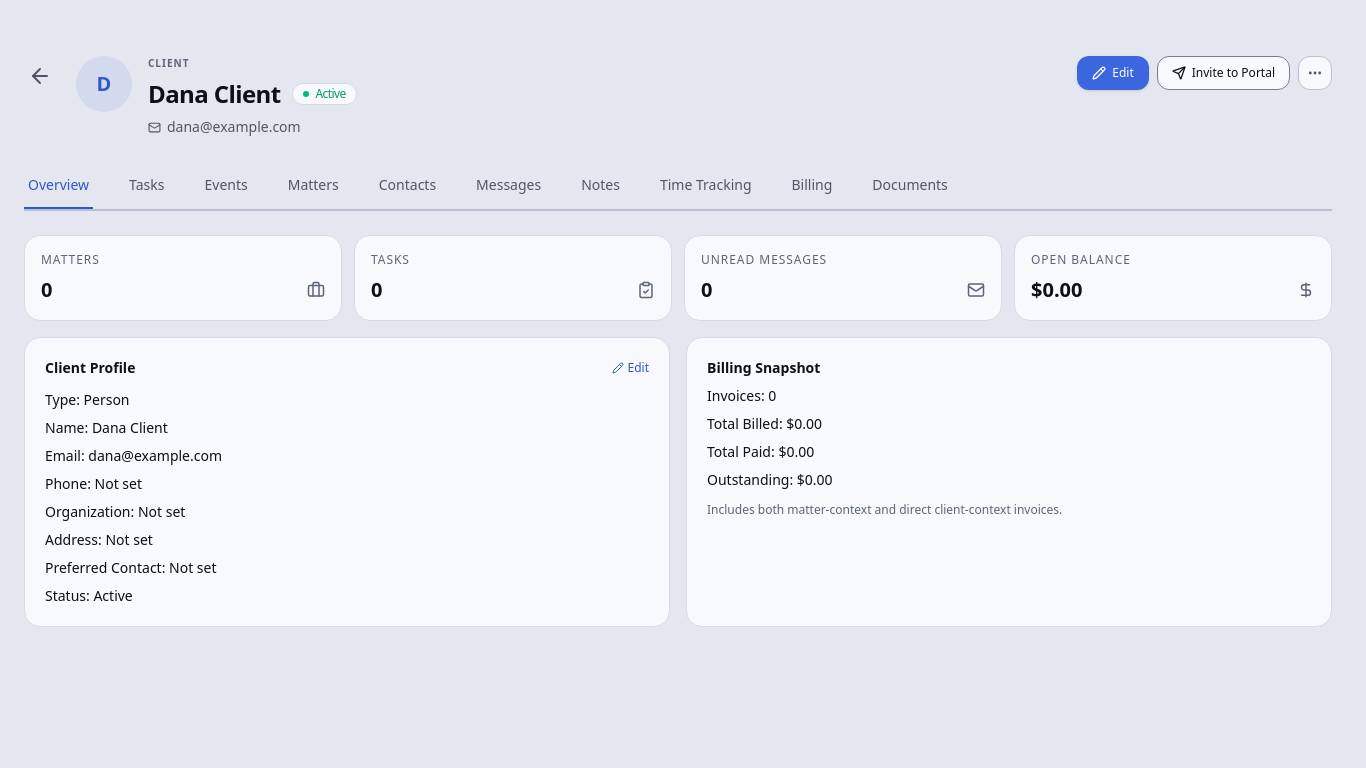
deleting from the card menu › tells the firm when the delete is refused
Click the button "Billing" at (812, 186), box [788, 163, 836, 209]
(page scrolled)
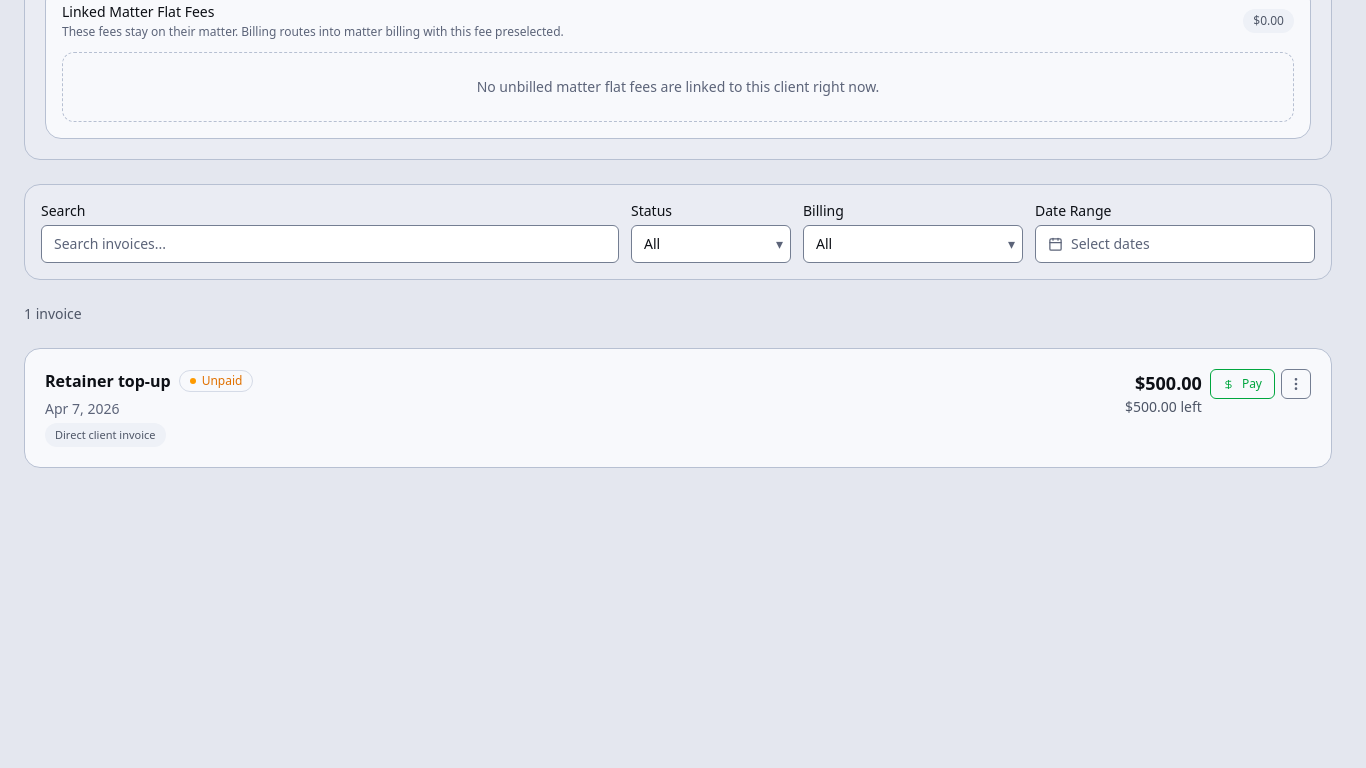
Click the button named "Invoice actions" at (1296, 384), box [1281, 369, 1311, 399]
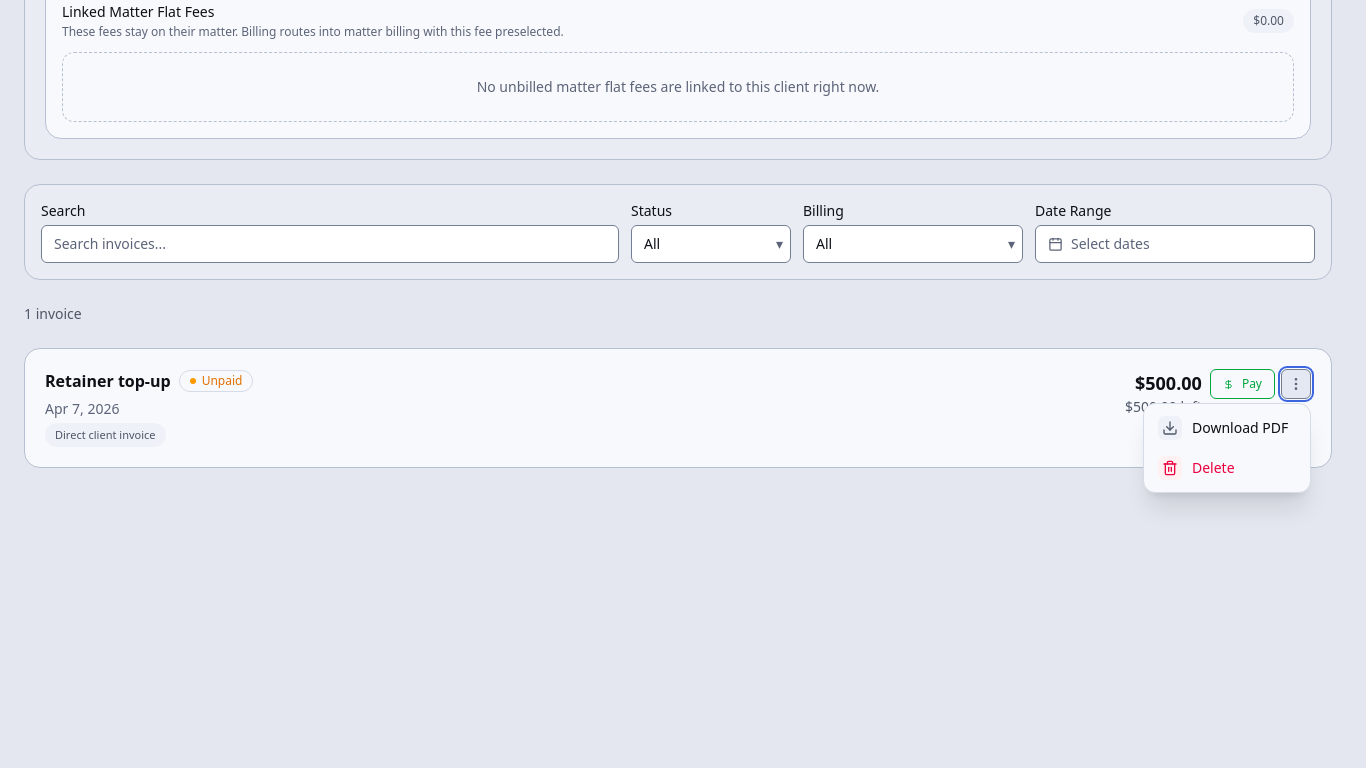
Click the menu item "Delete" at (1227, 468), box [1148, 448, 1306, 488]
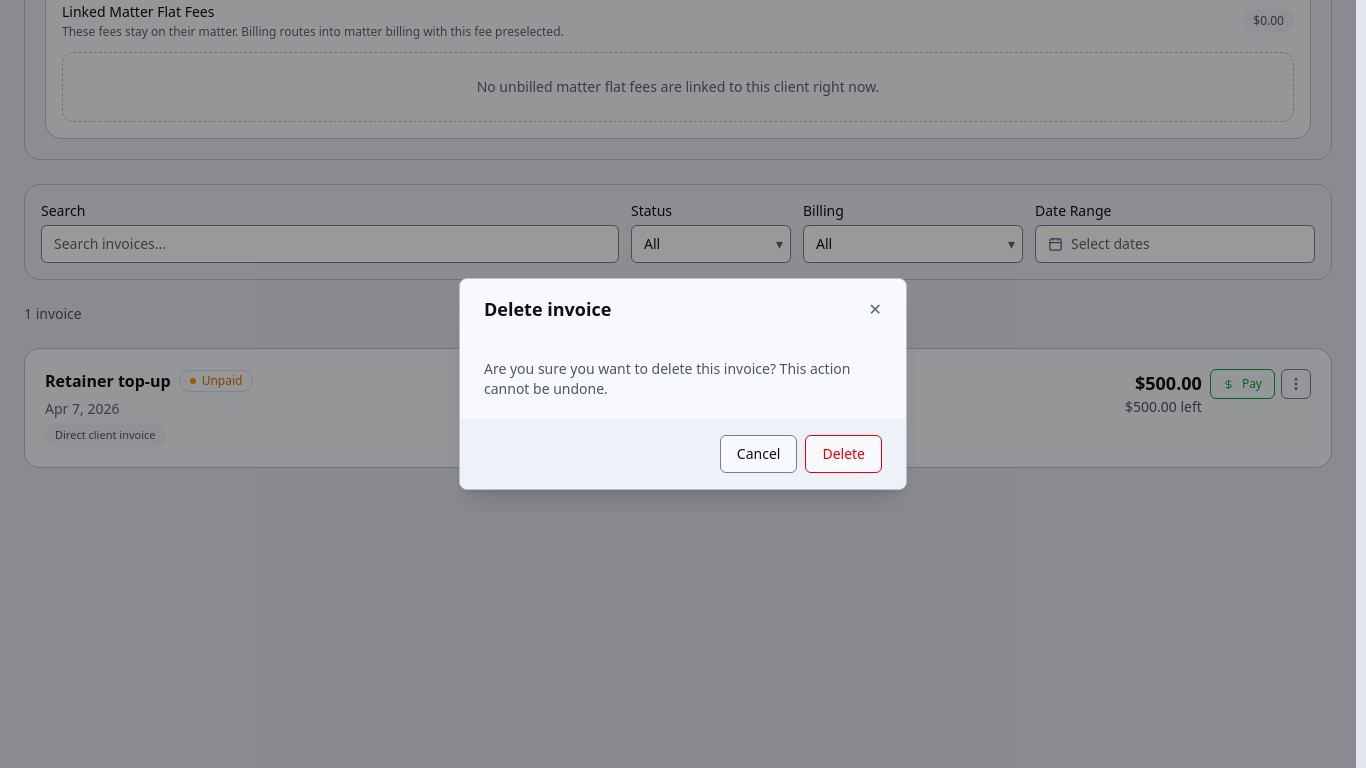
Click the button "Delete" at (844, 454), box [805, 435, 882, 473]
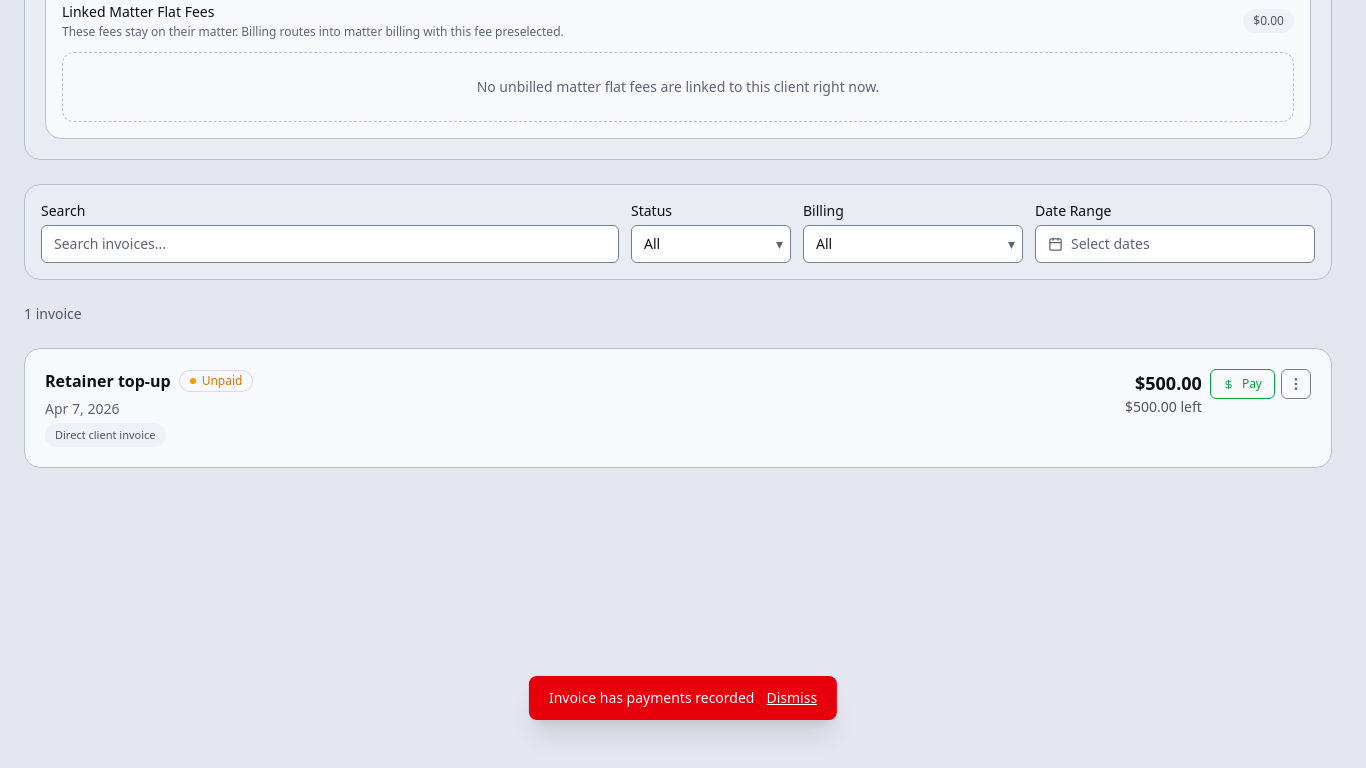
Expected: the text "Invoice has payments recorded" is shown, [549, 688, 754, 707]
